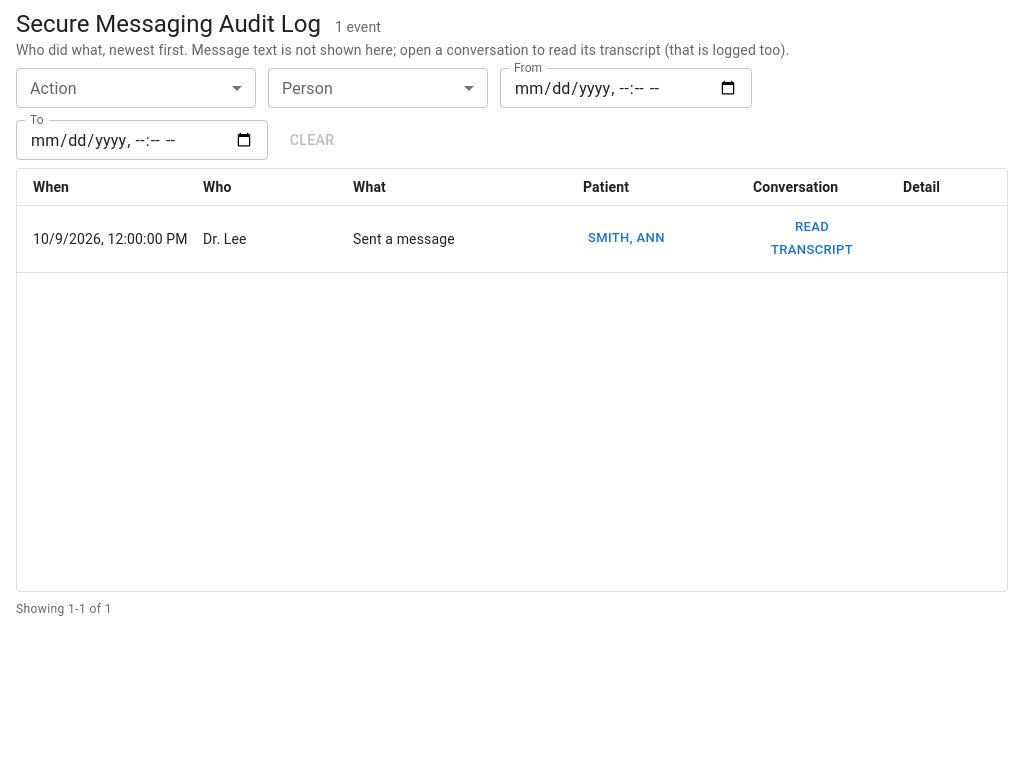
Test: filters by person, by clicking a patient, and clears them
Check: the row with test id "audit-row-2" is shown, box [17,206,1007,272]
Click the button "Smith, Ann" at (626, 239), box [583,223,670,254]
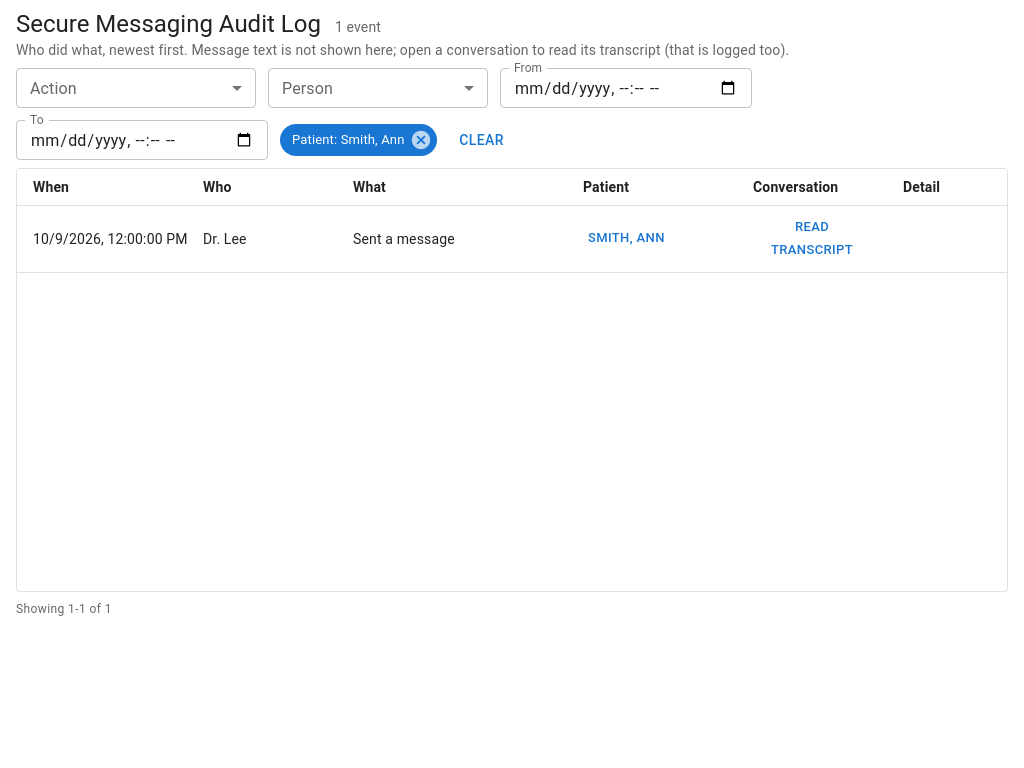
Check: the button with test id "patient-filter-chip" shows "Smith, Ann", box [280,124,438,156]
Type "2026-10-01T08:00" into the field with test id "filter-since" at (626, 88), box [500,68,752,108]
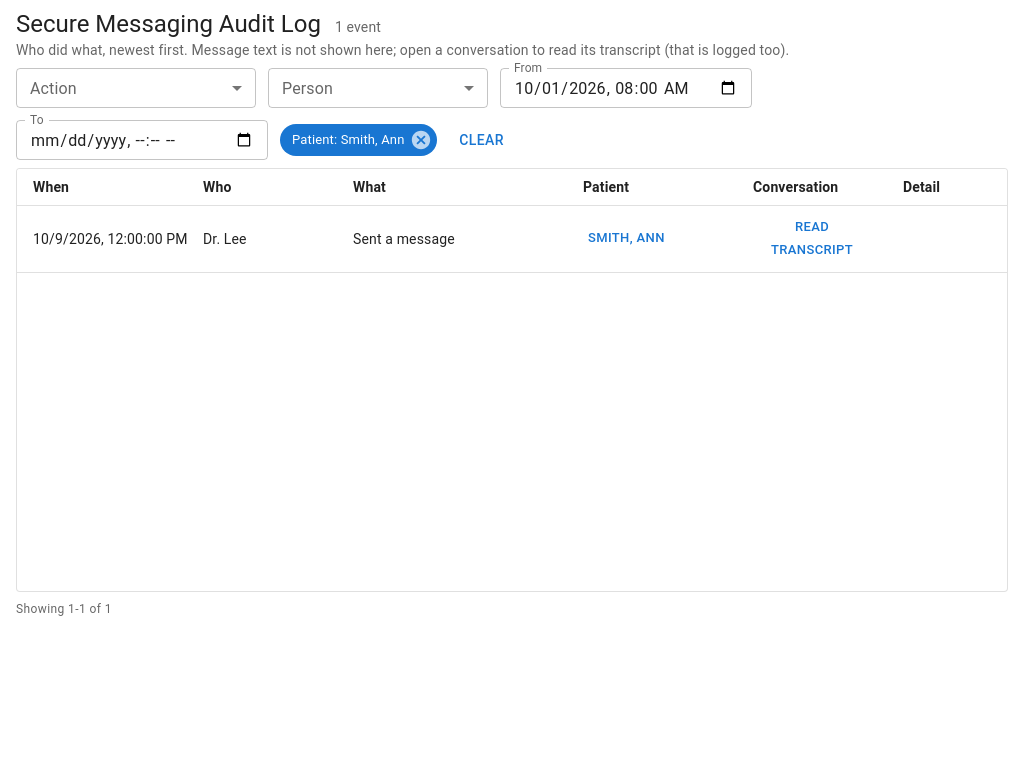
Click the button "Clear" at (482, 140), box [450,122,514,158]
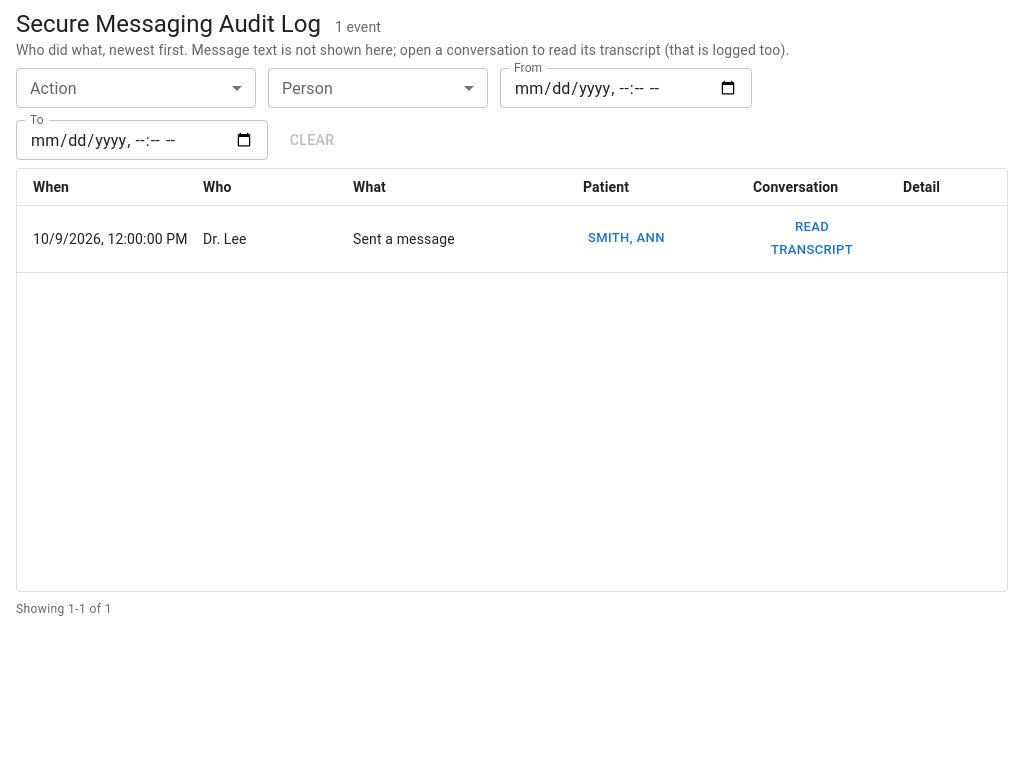
Check: the button with test id "patient-filter-chip" is gone
